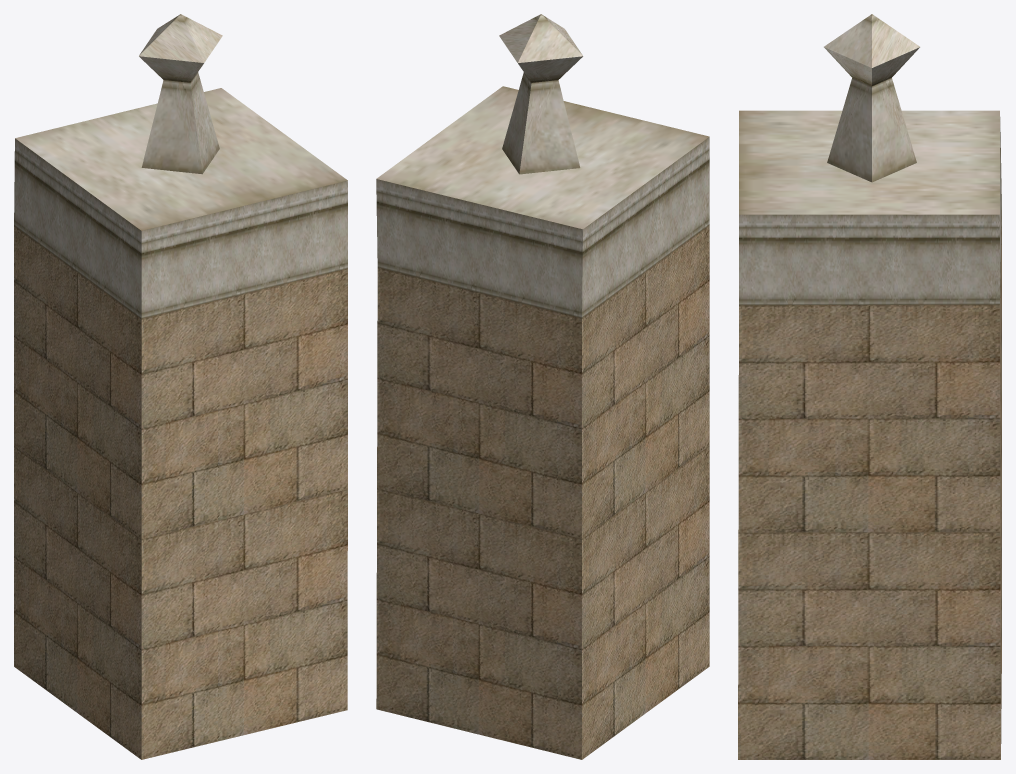
File: thm_nboo_imprv_pillar_s02_l2.fbx
The picture shows the model from 3 angles, left to right: view 1: azimuth 30°, elevation 25°; view 2: azimuth 150°, elevation 25°; view 3: azimuth 270°, elevation 25°; orthographic projection. The views are drawn at different scales.
Parts seen in each view (by area): view 1: mesh_node; view 2: mesh_node; view 3: mesh_node.
Part boxes in pixels (x1,y1,x2,y2): mesh_node: [14, 14, 347, 759]; mesh_node: [376, 14, 709, 759]; mesh_node: [738, 14, 1001, 759].
Size of the model in its own units: 2.03 by 6.33 by 2.18.
Materials: 1 (1 with a texture image).
